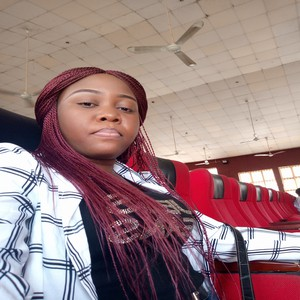Fulokoja_female_student: (37, 69, 179, 300)
